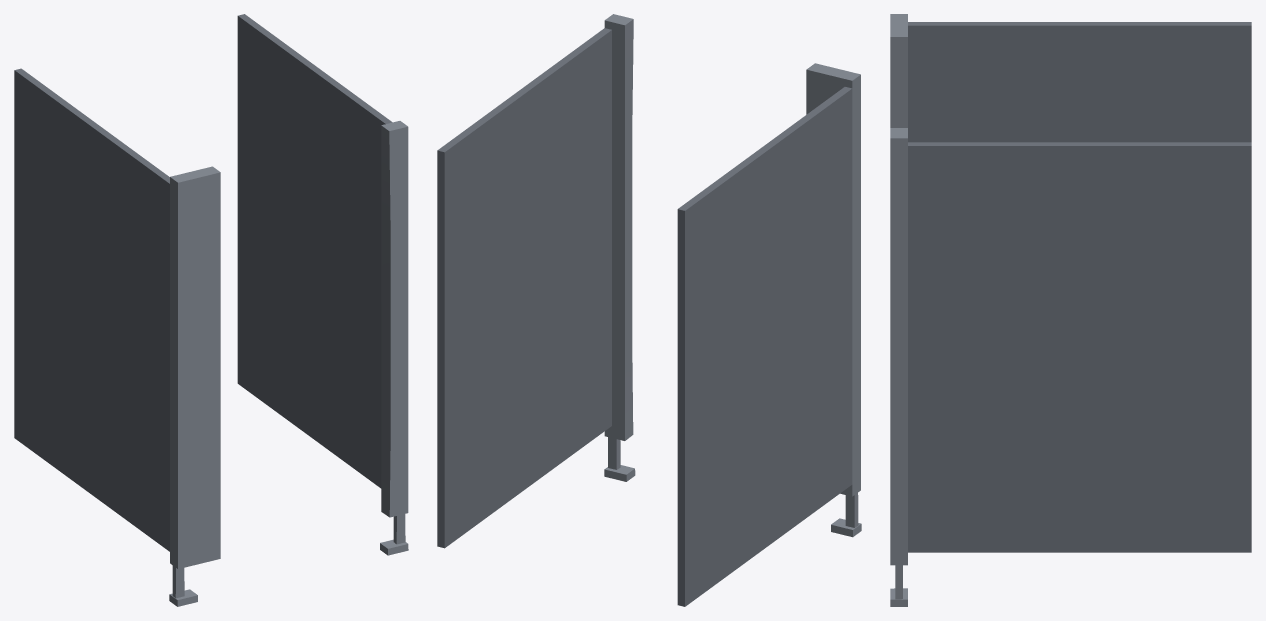
Rendered from SM_Prop_Toilet_Stall_01.obj.
3 renders of one model, left to right at view 1: azimuth 30°, elevation 25°; view 2: azimuth 150°, elevation 25°; view 3: azimuth 270°, elevation 25°, orthographic. The views are drawn at different scales.
Visible parts, largest first — view 1: SM_Prop_Toilet_Stall_01_0; view 2: SM_Prop_Toilet_Stall_01_0; view 3: SM_Prop_Toilet_Stall_01_0.
Part boxes in pixels (<box>): SM_Prop_Toilet_Stall_01_0: <box>14,14,408,606</box>; SM_Prop_Toilet_Stall_01_0: <box>437,14,861,606</box>; SM_Prop_Toilet_Stall_01_0: <box>890,14,1251,606</box>.
Size of the model in its own units: 1.25 by 2.2 by 1.54.
Materials: 1 (1 with a texture image).
